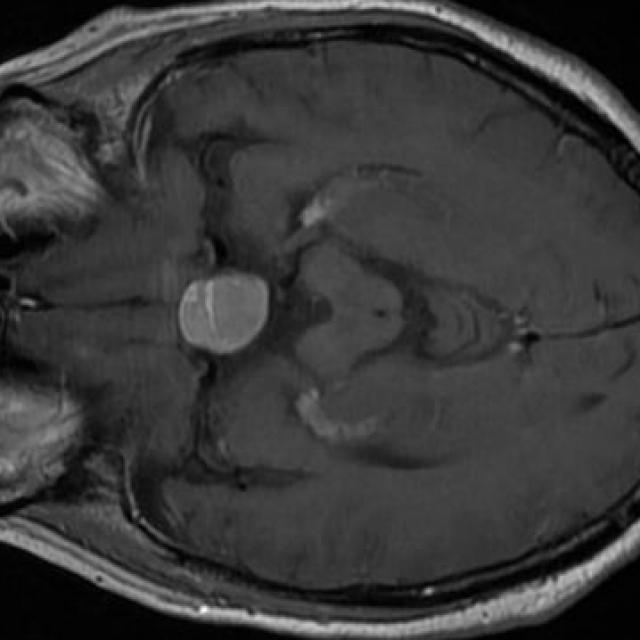pituitary: (178, 273, 271, 357)
